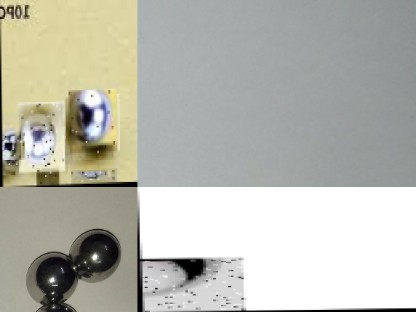ironball: (140, 257, 243, 311), (64, 225, 127, 283), (22, 246, 79, 306), (17, 101, 64, 172), (67, 90, 116, 156), (70, 169, 117, 184), (1, 133, 20, 166), (35, 168, 58, 186)
